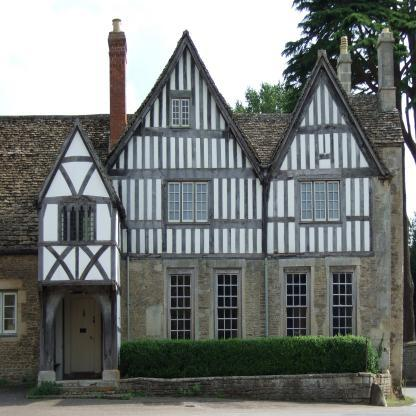Building Outline: (0, 18, 405, 407)
Dont: (118, 332, 385, 379)
Door: (70, 298, 95, 373)
Facade: (0, 115, 400, 385)
Floor: (121, 175, 403, 253), (38, 132, 116, 279)
Floor Slab: (110, 170, 392, 175), (121, 253, 403, 258), (38, 279, 116, 285)
Ground Floor: (0, 252, 403, 393)
Roof: (0, 29, 405, 251)
Top Floor: (109, 44, 255, 170), (273, 64, 380, 170)
Window: (168, 182, 208, 222), (300, 181, 340, 221), (332, 272, 353, 341), (170, 275, 191, 344), (217, 274, 238, 343), (286, 273, 307, 342), (0, 291, 18, 333), (172, 98, 190, 127), (79, 206, 85, 241), (87, 206, 93, 241), (70, 207, 76, 241), (62, 207, 67, 241)
